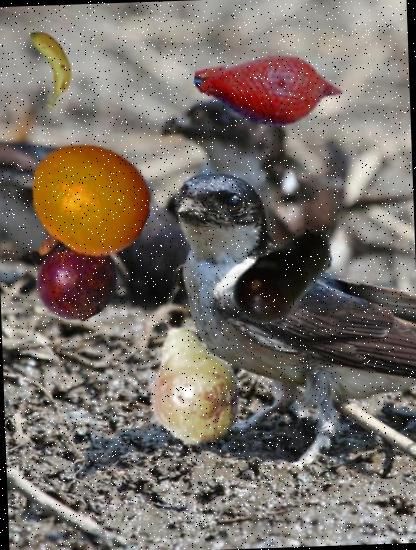Banana: (9, 26, 91, 108)
Eggplant: (222, 208, 352, 338)
Lemon: (24, 135, 154, 264)
Mangostan: (16, 214, 126, 324)
Pear: (121, 313, 262, 453)
Salak: (191, 14, 346, 169)
